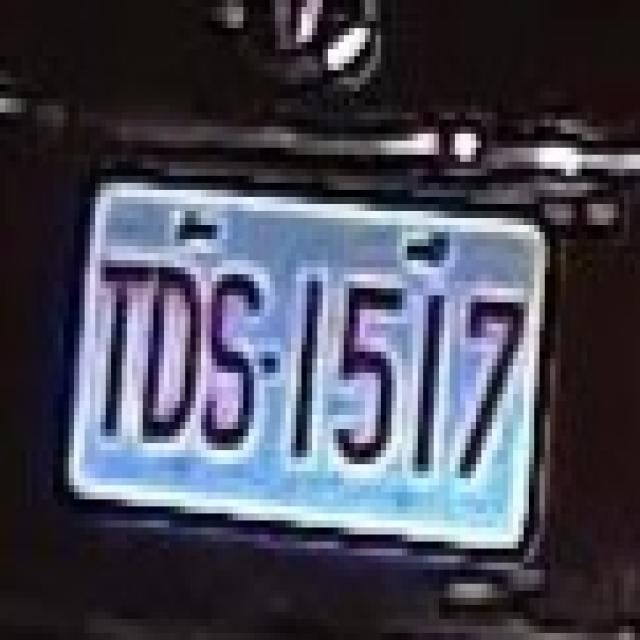license-plate: (64, 156, 558, 574)
